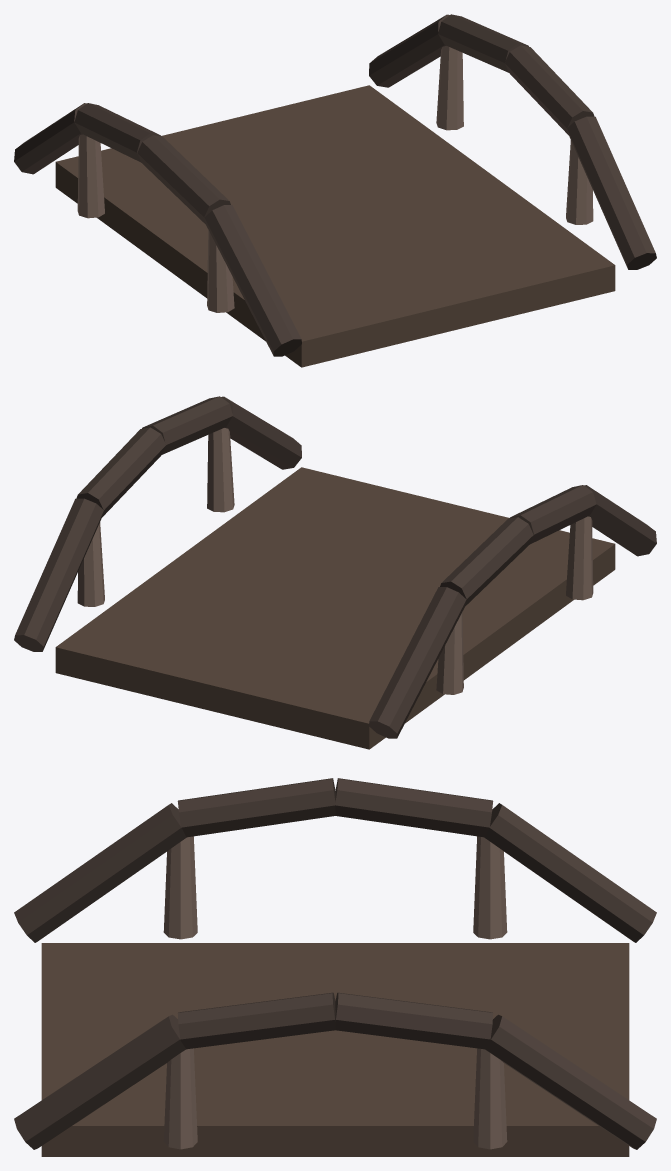
File: HauntedWoods_RootBridge_Simple.glb
The picture shows the model from 3 angles, top to bottom: view 1: azimuth 30°, elevation 25°; view 2: azimuth 150°, elevation 25°; view 3: azimuth 270°, elevation 25°; orthographic projection. The views are drawn at different scales.
Parts seen in each view (by area): view 1: HauntedWoods_RootBridge_Simple; view 2: HauntedWoods_RootBridge_Simple; view 3: HauntedWoods_RootBridge_Simple.
Boxes of the visible parts, x1,y1,x2,y2 form: HauntedWoods_RootBridge_Simple: (14,14,656,367); HauntedWoods_RootBridge_Simple: (14,396,656,749); HauntedWoods_RootBridge_Simple: (14,778,656,1156).
Size of the model in its own units: 3.54 by 1.28 by 4.16.
